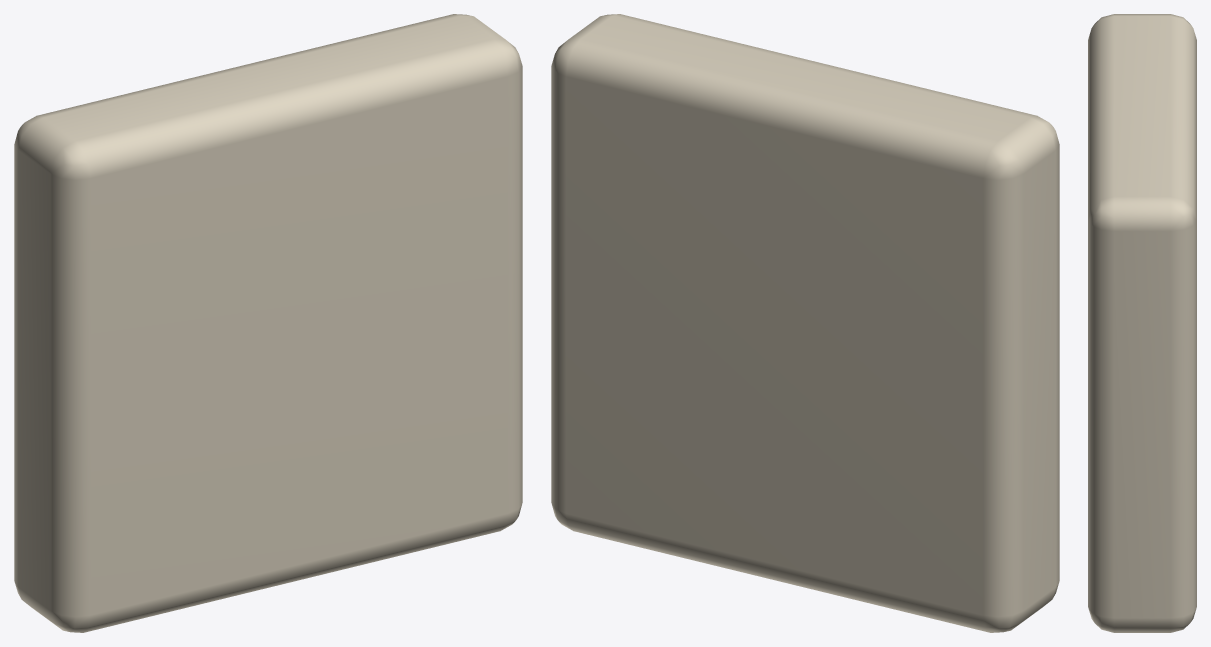
File: shape-square-colorless.glb
3 renders of one model, left to right at view 1: azimuth 30°, elevation 25°; view 2: azimuth 150°, elevation 25°; view 3: azimuth 270°, elevation 25°, orthographic. The views are drawn at different scales.
Visible parts, largest first — view 1: solid square; view 2: solid square; view 3: solid square.
Part boxes in pixels (bbox=[...]): solid square: bbox=[14, 14, 522, 632]; solid square: bbox=[551, 14, 1059, 632]; solid square: bbox=[1088, 14, 1196, 632].
Bounding box in the file's own units: 1.1 × 1.1 × 0.25.
